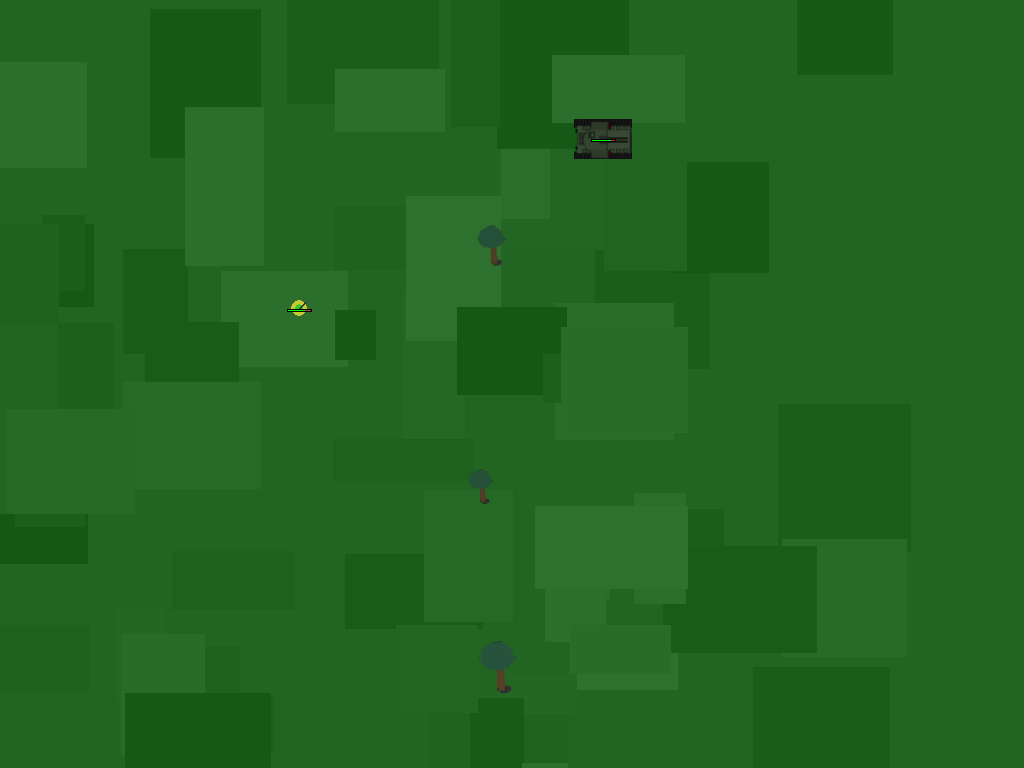Mi24: (578, 114, 626, 162)
Rifleman: (283, 292, 315, 324)
